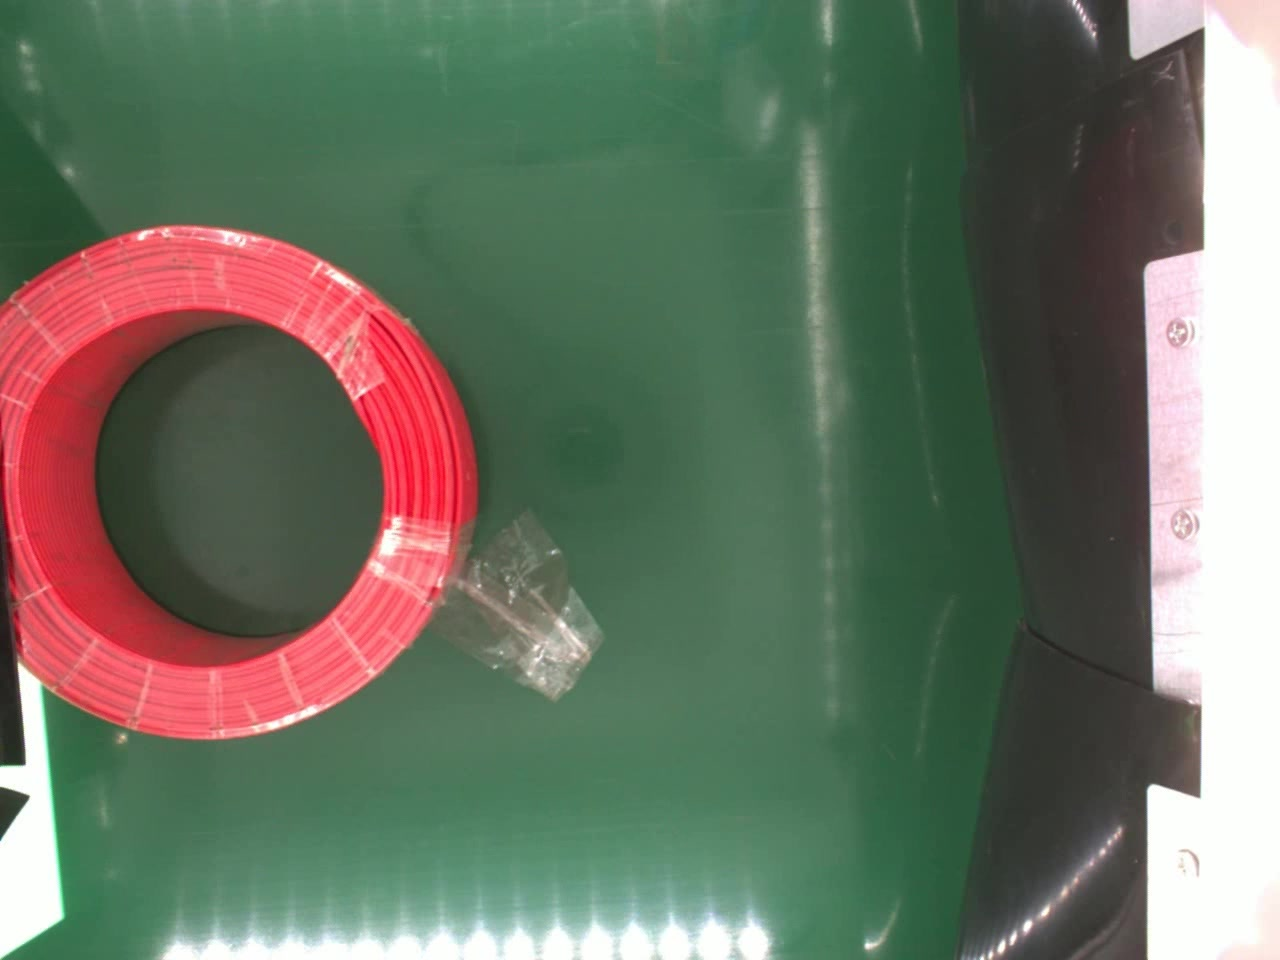red: (0, 222, 481, 744)
